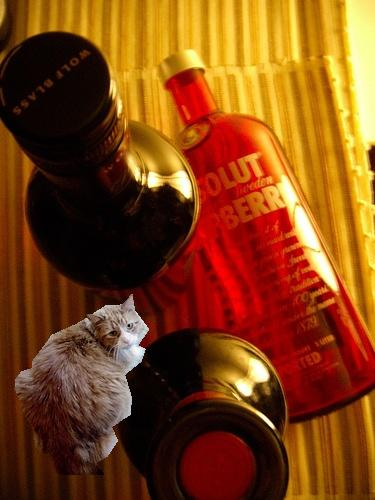tampered: (15, 295, 149, 475)
